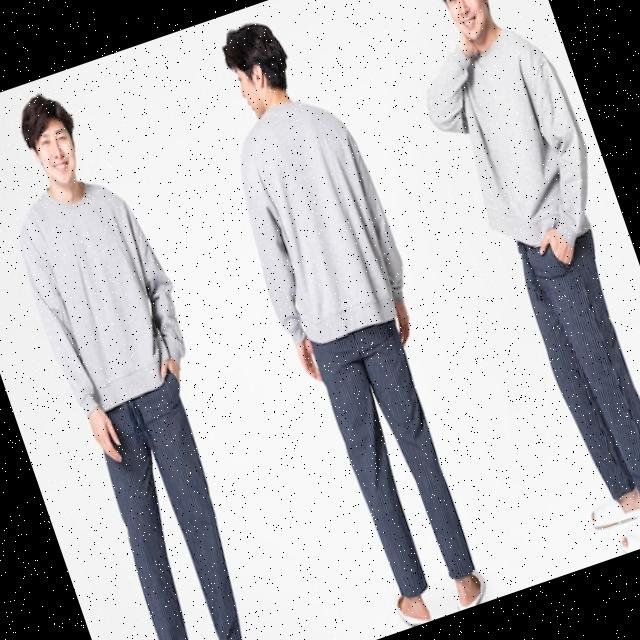Person: (181, 2, 514, 636), (0, 73, 302, 640), (377, 0, 640, 568)
